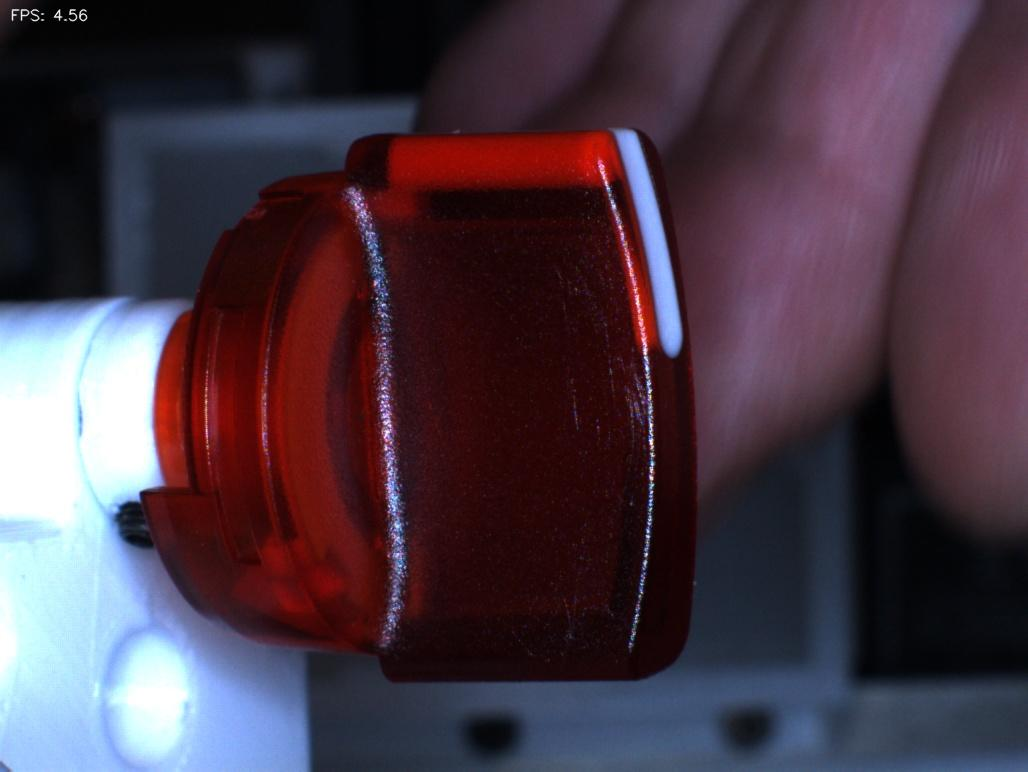Givrage: (553, 281, 648, 612)
